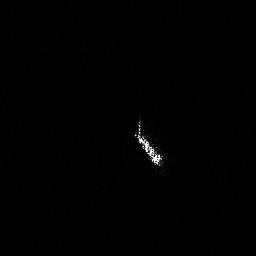ship: (130, 116, 170, 174)
